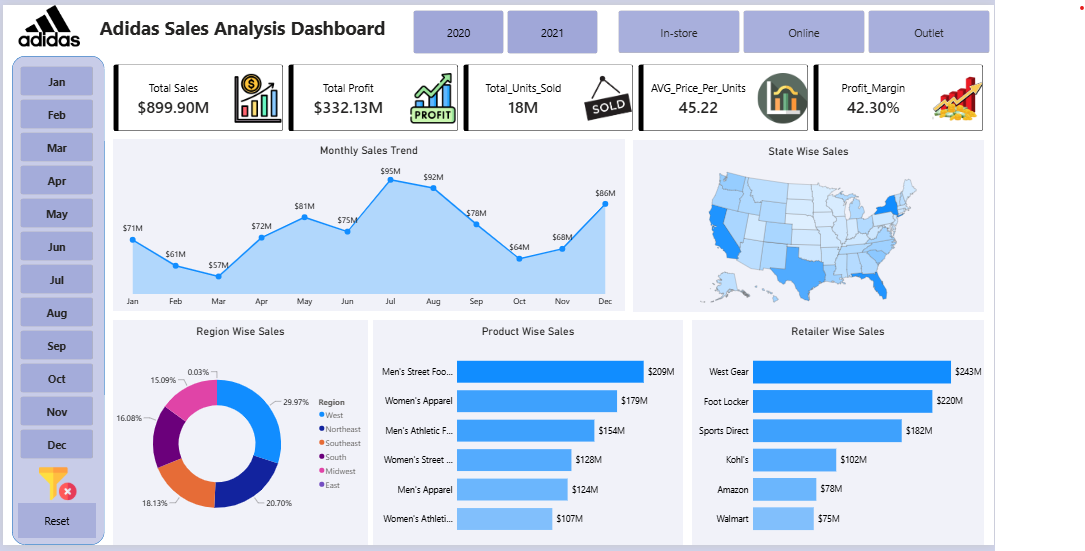

What the dashboard file says about the page in this screenshot:
{"tool":"powerbi","page":{"name":"Page 1","canvas":[1981,1080],"ordinal":0},"visuals":[{"type":"cardVisual","fields":{"Data":["Data Sales Adidas.Total Sales","Data Sales Adidas.Total profit","Data Sales Adidas.Total_Units_Sold","Data Sales Adidas.AVG_Price_Per_Units","Data Sales Adidas.Profit_Margin"]},"box":[203.1,101.5,1777.5,167.5],"z":0},{"type":"image","box":[0,0,185,82.5],"z":1000},{"type":"textbox","box":[188,14,628,78],"z":2000},{"type":"shape","box":[17.5,102.5,185,977.5],"z":3000},{"type":"areaChart","title":" Monthly Sales Trend","fields":{"Y":["Data Sales Adidas.Total Sales"],"Category":["Data Sales Adidas.Month"]},"box":[220,268,1024,344],"z":4000},{"type":"shapeMap","title":"State Wise Sales","fields":{"Value":["Data Sales Adidas.Total Sales"],"Category":["Data Sales Adidas.State"]},"box":[1260,270,702,344],"z":5000},{"type":"donutChart","title":"Region Wise Sales","fields":{"Category":["Data Sales Adidas.Region"],"Y":["Data Sales Adidas.Total Sales"]},"box":[220,630,510,450],"z":6000},{"type":"barChart","title":"Retailer Wise Sales","fields":{"Y":["Data Sales Adidas.Total Sales"],"Category":["Data Sales Adidas.Retailer"]},"box":[1378,630,584,450],"z":7000},{"type":"barChart","title":"Product Wise Sales","fields":{"Category":["Data Sales Adidas.Product"],"Y":["Data Sales Adidas.Total Sales"]},"box":[740,630,620,450],"z":8000},{"type":"advancedSlicerVisual","fields":{"Values":["Data Sales Adidas.Sales Method"]},"box":[1226.7,6.4,752.5,95],"z":9000},{"type":"advancedSlicerVisual","fields":{"Values":["Data Sales Adidas.Invoice Date.Variation.Date Hierarchy.Year"]},"box":[816,6,378,96],"z":10000},{"type":"advancedSlicerVisual","fields":{"Values":["Data Sales Adidas.Month"]},"box":[30,117.5,155,802.5],"z":11000},{"type":"image","box":[32.5,920,155,75],"z":12000},{"type":"actionButton","box":[30,995,156,70],"z":13000}]}

Visuals, with their boxes on the page's 1981x1080 design canvas (x1, y1, x2, y2). These are canvas units, not pixel positions in the 1085x551 screenshot, which may show the page scaled, cropped or inside an application window:
cardVisual - Data Sales Adidas.Total Sales x Data Sales Adidas.Total profit: locate(203, 102, 1981, 269)
image: locate(0, 0, 185, 82)
textbox: locate(188, 14, 816, 92)
shape: locate(18, 102, 202, 1080)
" Monthly Sales Trend" areaChart: locate(220, 268, 1244, 612)
"State Wise Sales" shapeMap: locate(1260, 270, 1962, 614)
"Region Wise Sales" donutChart: locate(220, 630, 730, 1080)
"Retailer Wise Sales" barChart: locate(1378, 630, 1962, 1080)
"Product Wise Sales" barChart: locate(740, 630, 1360, 1080)
advancedSlicerVisual - Data Sales Adidas.Sales Method: locate(1227, 6, 1979, 101)
advancedSlicerVisual - Data Sales Adidas.Invoice Date.Variation.Date Hierarchy.Year: locate(816, 6, 1194, 102)
advancedSlicerVisual - Data Sales Adidas.Month: locate(30, 118, 185, 920)
image: locate(32, 920, 188, 995)
actionButton: locate(30, 995, 186, 1065)
